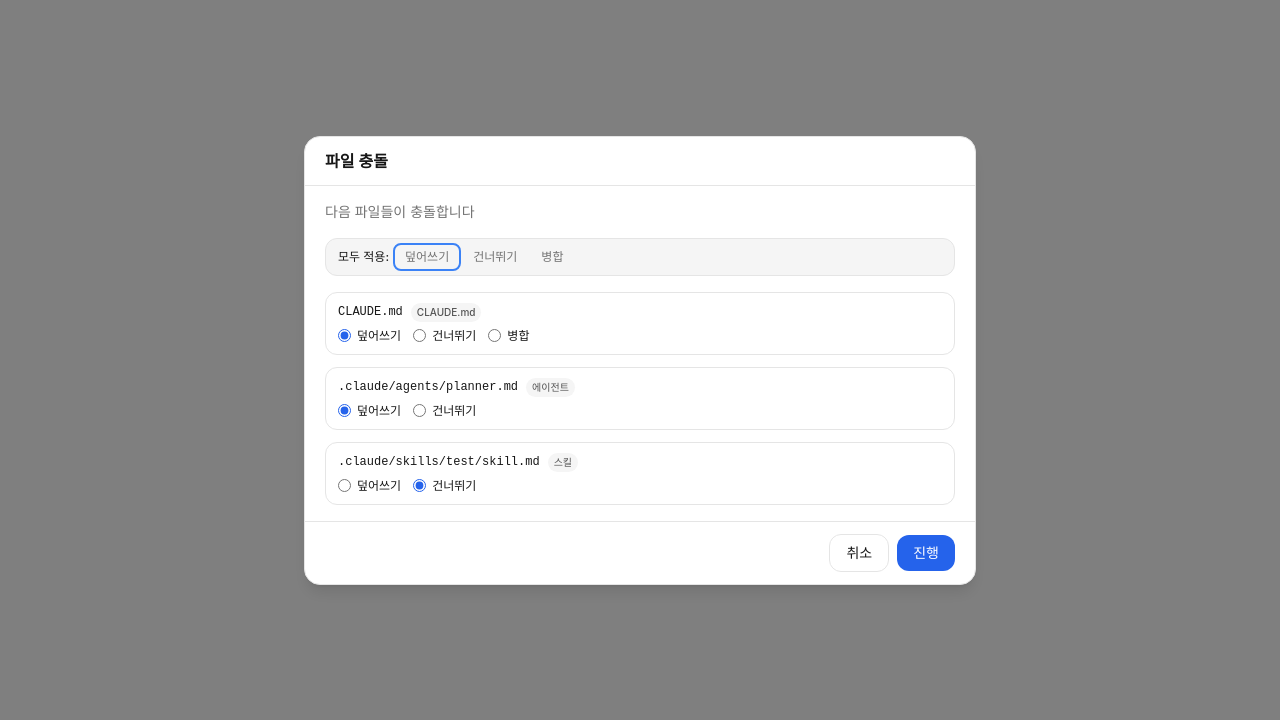
Test case: ConflictModal › applies resolution to all compatible conflicts via apply-all button
The image size is (1280, 720).
# The first one is in the apply-all section
Click the button "건너뛰기" at (495, 256), box [465,246,525,266]
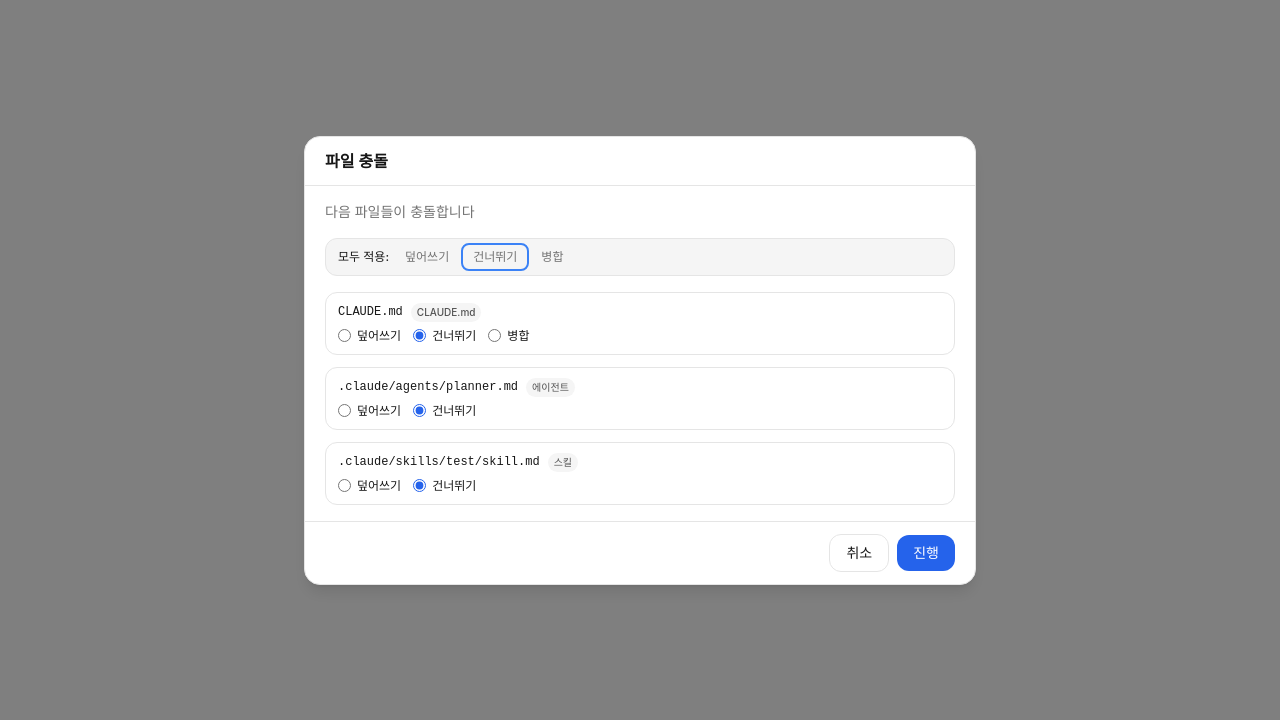
Expected: the radio button labelled "건너뛰기" below ".claude/skills/test/skill.md" is checked, [413,479,426,492]
Expected: the 1st radio button labelled "건너뛰기" is checked, [413,329,426,342]
Expected: the radio button labelled "건너뛰기" below ".claude/agents/planner.md" is checked, [413,404,426,417]
